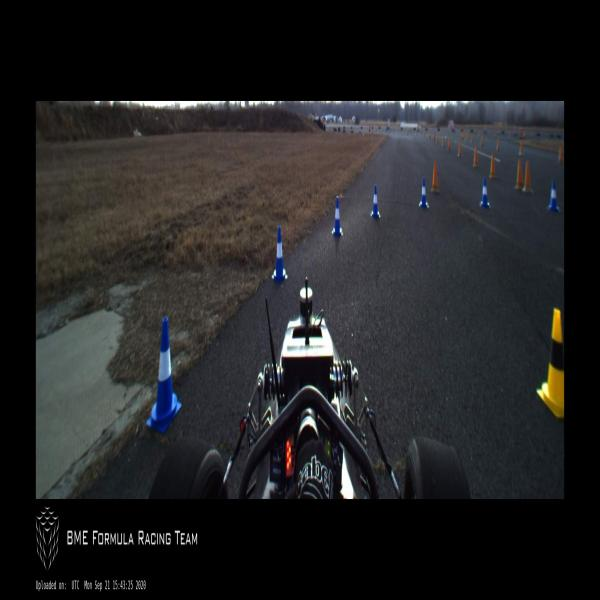blue_cone: (145, 317, 182, 433), (271, 225, 288, 283), (331, 196, 343, 237), (547, 180, 560, 213), (370, 184, 381, 219), (479, 176, 491, 208), (419, 178, 428, 209)
unknown_cone: (522, 161, 534, 194), (514, 158, 524, 190), (431, 158, 440, 192), (488, 151, 497, 179), (472, 146, 479, 168), (558, 146, 562, 164), (458, 141, 462, 158), (519, 142, 523, 154), (448, 137, 451, 151), (442, 135, 445, 148), (497, 138, 499, 150), (436, 134, 438, 144)
yellow_cone: (536, 308, 564, 417)
